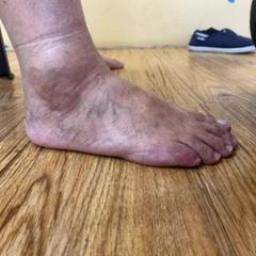Lateral View -Right Foot-: (6, 26, 246, 191)
